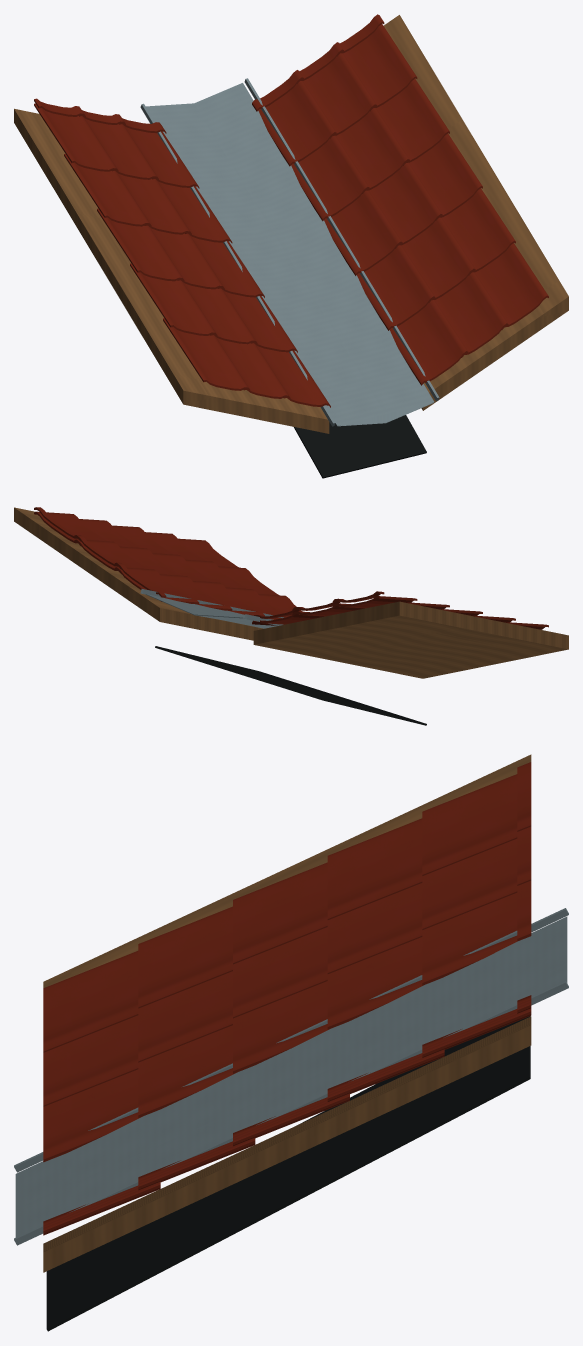
Rendered from modell.glb.
The picture shows the model from 3 angles, top to bottom: view 1: azimuth 30°, elevation 25°; view 2: azimuth 150°, elevation 25°; view 3: azimuth 270°, elevation 25°; orthographic projection. The views are drawn at different scales.
Parts seen in each view (by area): view 1: s06-ziegel_deckung, s06-kehlblech_zusatzebene, s06-unterlage_tragwerk, s06-zusatzebene_zusatzebene, s06-kehlblech_deckung; view 2: s06-unterlage_tragwerk, s06-ziegel_deckung, s06-zusatzebene_zusatzebene, s06-kehlblech_zusatzebene, s06-kehlblech_deckung; view 3: s06-ziegel_deckung, s06-kehlblech_zusatzebene, s06-zusatzebene_zusatzebene, s06-unterlage_tragwerk, s06-kehlblech_deckung.
Part boxes in pixels (left/top/right/bottom): s06-ziegel_deckung: left=34, top=14, right=548, bottom=407; s06-kehlblech_zusatzebene: left=146, top=83, right=434, bottom=426; s06-unterlage_tragwerk: left=14, top=15, right=568, bottom=433; s06-zusatzebene_zusatzebene: left=294, top=415, right=426, bottom=478; s06-kehlblech_deckung: left=140, top=78, right=439, bottom=426; s06-unterlage_tragwerk: left=14, top=507, right=568, bottom=678; s06-ziegel_deckung: left=34, top=507, right=548, bottom=629; s06-zusatzebene_zusatzebene: left=155, top=646, right=426, bottom=725; s06-kehlblech_zusatzebene: left=145, top=594, right=278, bottom=628; s06-kehlblech_deckung: left=140, top=589, right=283, bottom=625; s06-ziegel_deckung: left=43, top=762, right=531, bottom=1235; s06-kehlblech_zusatzebene: left=15, top=916, right=567, bottom=1237; s06-zusatzebene_zusatzebene: left=46, top=1016, right=530, bottom=1331; s06-unterlage_tragwerk: left=43, top=754, right=531, bottom=1272; s06-kehlblech_deckung: left=14, top=908, right=568, bottom=1245.
Bounding box in the file's own units: 2.3 × 1.64 × 1.99.
4 materials, 3 textured.
